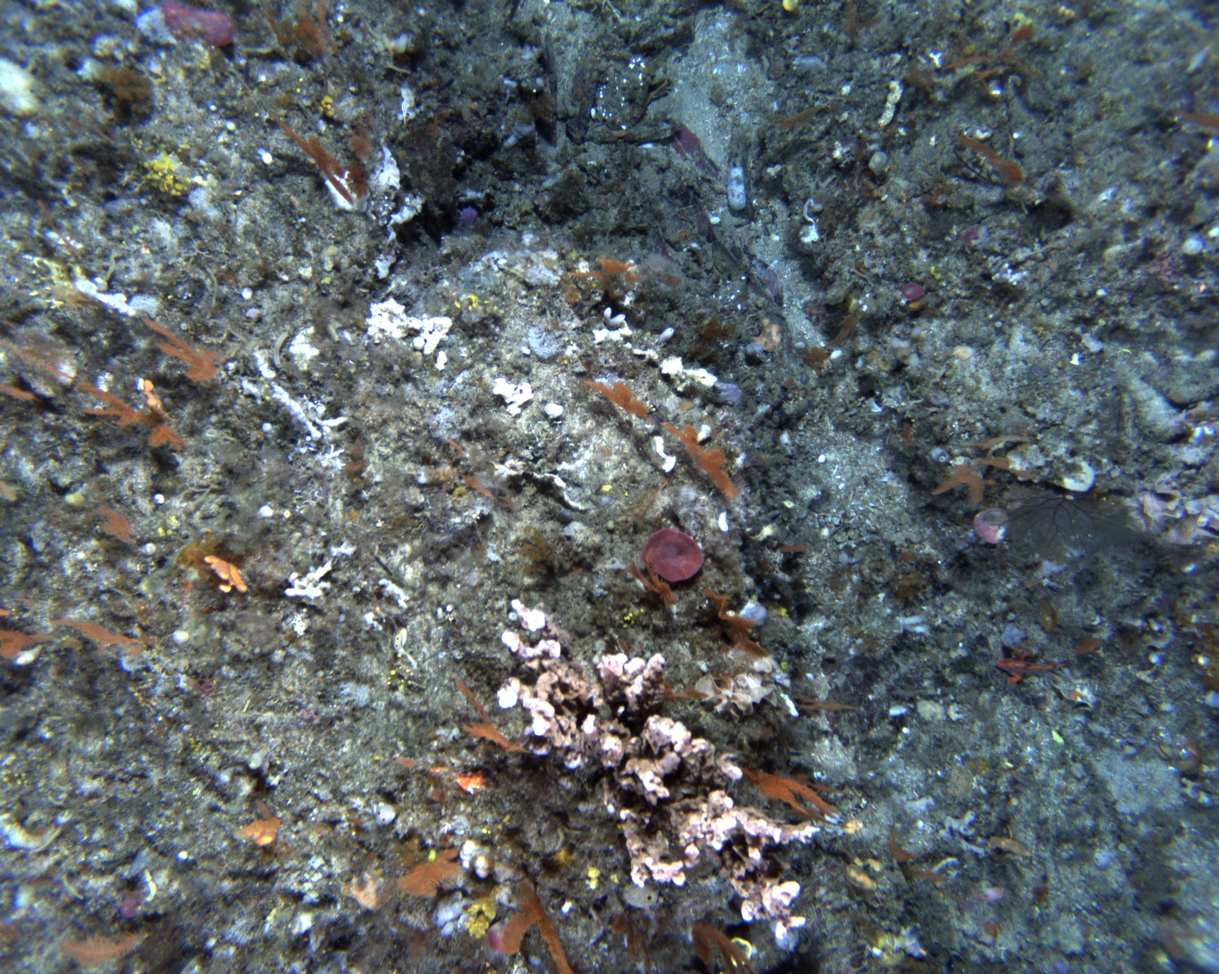Brachionichthyidae: (994, 649, 1076, 686)
